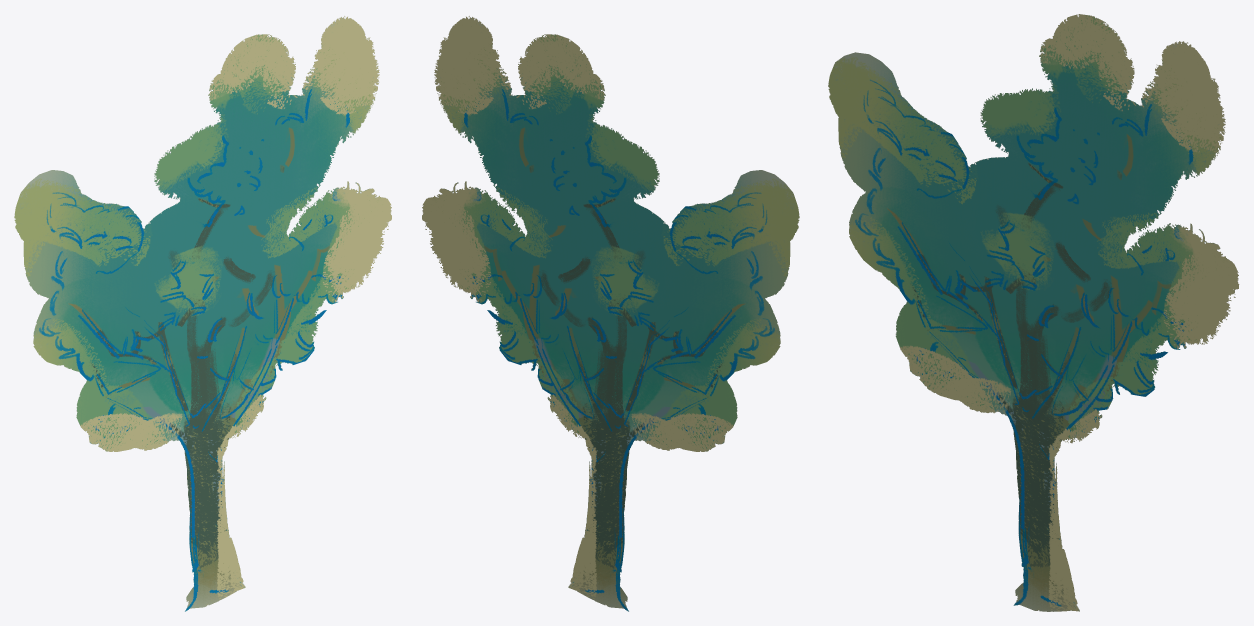
The model's file is tree_4.fbx.
The picture shows the model from 3 angles, left to right: view 1: azimuth 30°, elevation 25°; view 2: azimuth 150°, elevation 25°; view 3: azimuth 330°, elevation 25°; orthographic projection. The views are drawn at different scales.
Visible parts, largest first — view 1: mask_tree_3; view 2: mask_tree_3; view 3: mask_tree_3.
Boxes of the visible parts, x1,y1,x2,y2 form: mask_tree_3: [14, 16, 391, 611]; mask_tree_3: [422, 16, 799, 611]; mask_tree_3: [828, 14, 1239, 611].
Size of the model in its own units: 9.87 by 13.95 by 1.53e-07.
Materials: 1 (1 with a texture image).
